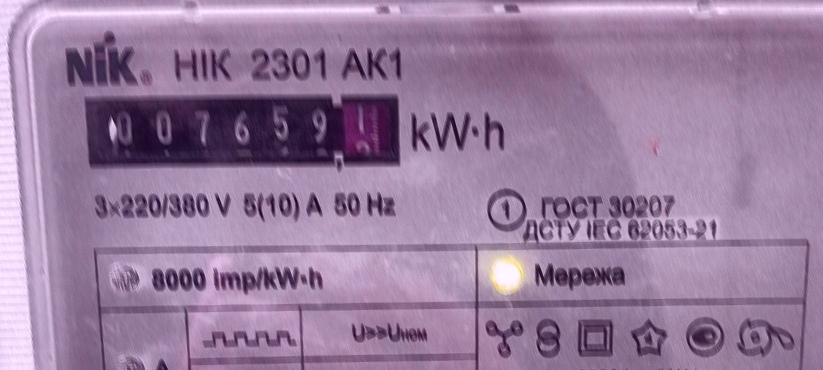0: (152, 108, 176, 146), (113, 108, 135, 147)
1: (352, 100, 369, 136)
5: (270, 104, 291, 141)
6: (230, 108, 253, 145)
7: (190, 108, 212, 146)
9: (308, 106, 330, 144)
screen: (75, 85, 410, 179)
